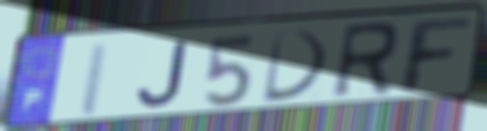5: (199, 31, 262, 108)
D: (259, 27, 334, 106)
F: (400, 16, 476, 97)
I: (75, 40, 114, 120)
J: (134, 38, 191, 111)
R: (328, 19, 402, 103)
